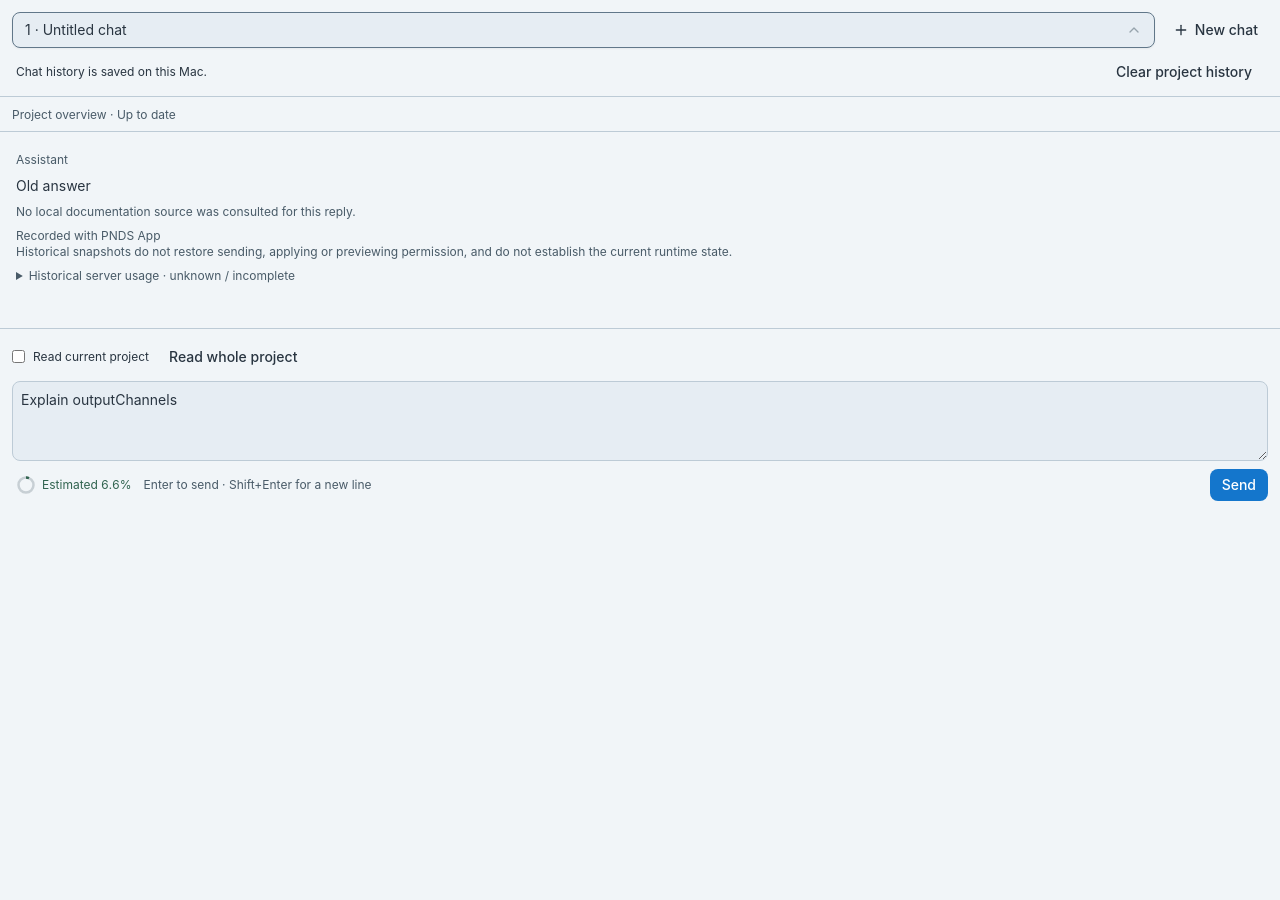
Test case: context and usage through the discussion (#233) › measures the actual outgoing policy and input and separates historic consumption
Expected: the text "1,050 / 16,000 tokens" is not shown
Click the button with aria-label "Context: Estimated 6.6%": [74, 485] box [12,469,136,501]
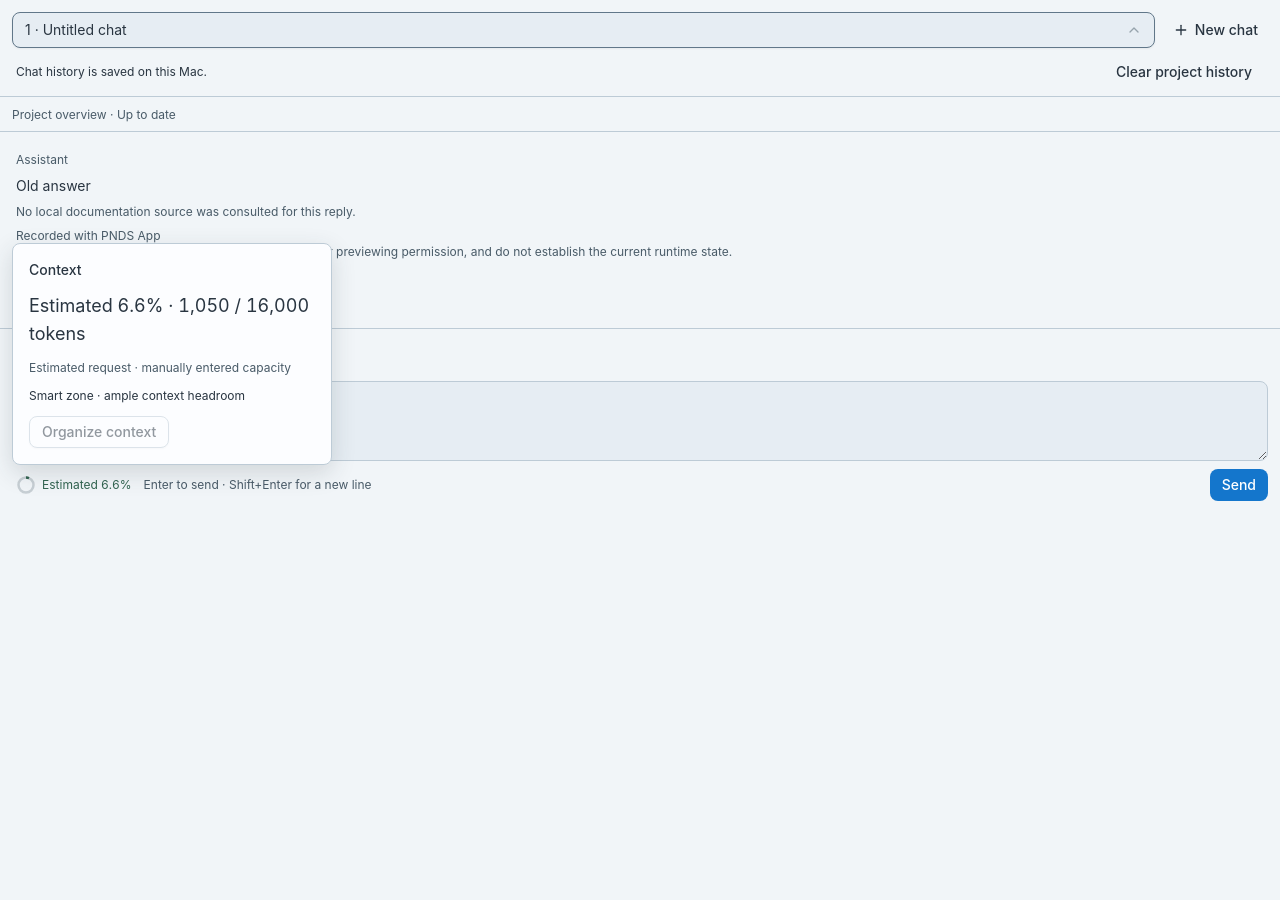
Expected: the text "Estimated 6.6% · 1,050 / 16,000 tokens" is shown, [29,292,315,348]
Expected: the text "Estimated request · manually entered capacity" is shown, [29,360,315,376]
Press Escape
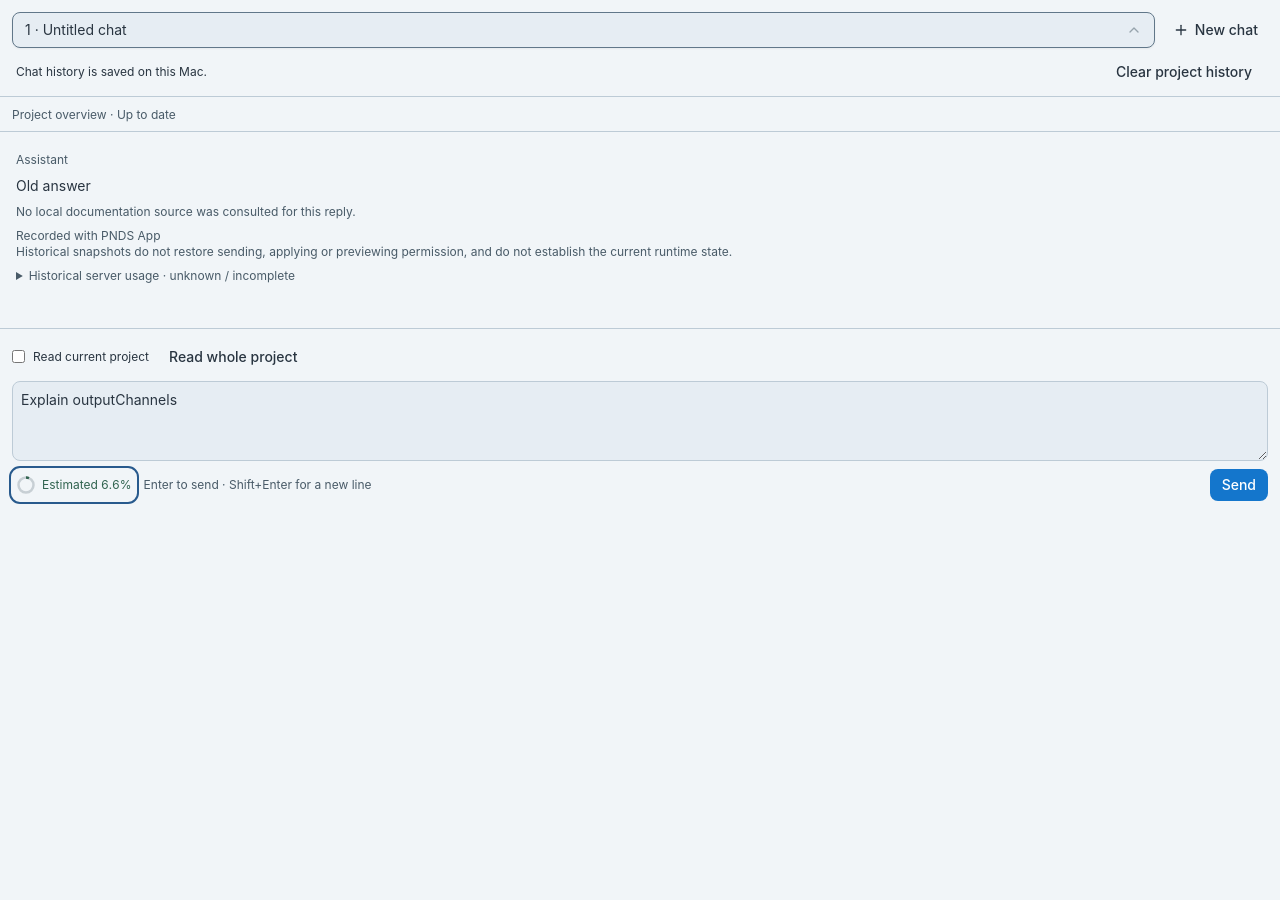
Click the heading "Historical server usage · unknown / incomplete": [162, 275] box [29,268,295,283]
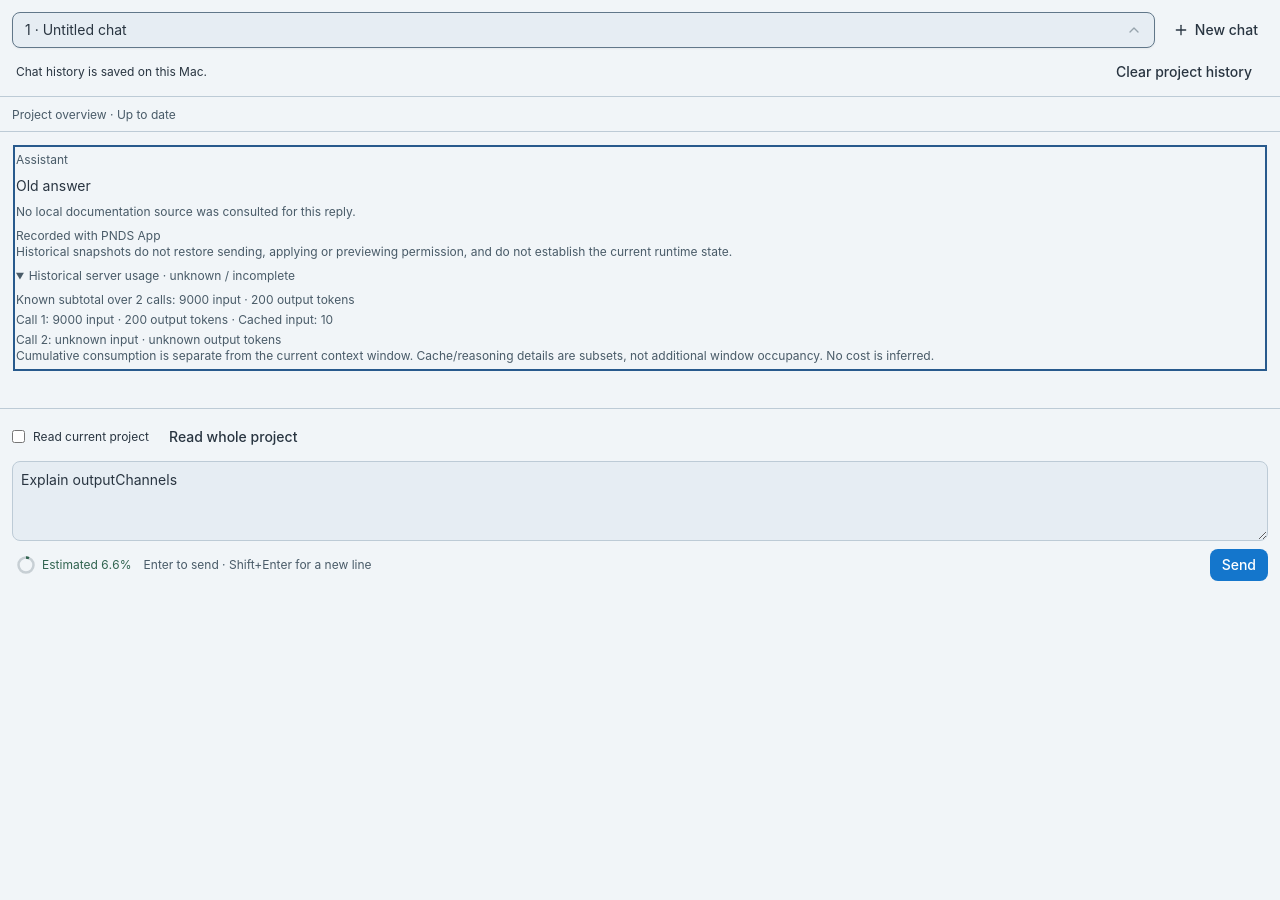
Expected: the button with aria-label "Context: Estimated 6.6%" is shown, [12,549,136,581]
Expected: the text "Known subtotal over 2 calls: 9000 input · 200 output tokens" is shown, [16,292,355,307]
Expected: the list item "Call 2: unknown input · unknown output tokens" is shown, [16,332,281,347]
